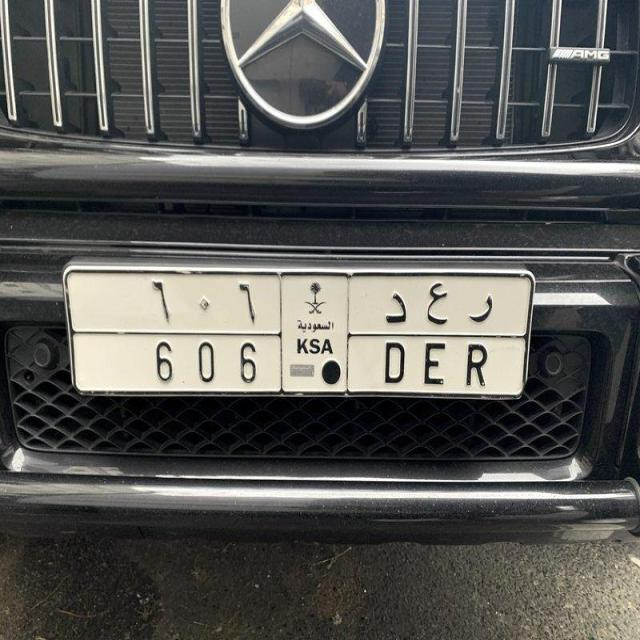license_plate: (65, 280, 533, 387)
